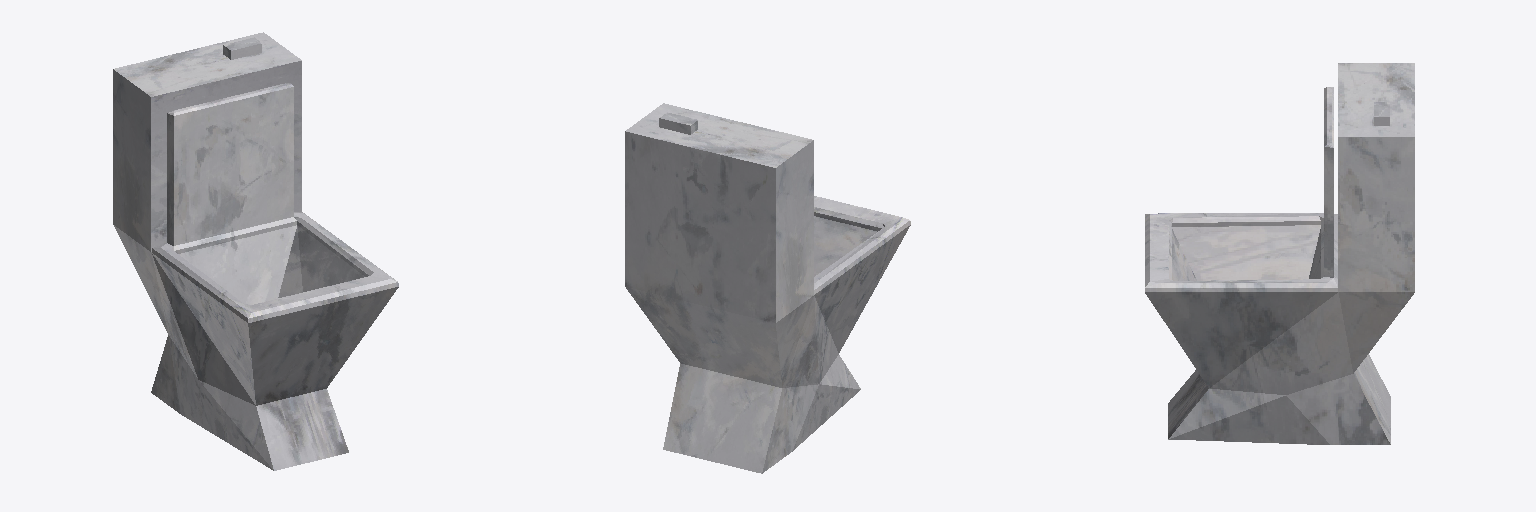
3 renders of one model, left to right at view 1: azimuth 30°, elevation 25°; view 2: azimuth 150°, elevation 25°; view 3: azimuth 270°, elevation 25°, orthographic.
Parts seen in each view (by area): view 1: Cube_Cube_001; view 2: Cube_Cube_001; view 3: Cube_Cube_001.
Part boxes in pixels (x1,y1,x2,y2): Cube_Cube_001: (113, 32, 398, 470); Cube_Cube_001: (625, 103, 910, 473); Cube_Cube_001: (1145, 63, 1414, 444).
Bounding box in the file's own units: 2.5 × 5.23 × 3.89.
1 materials, 1 textured.